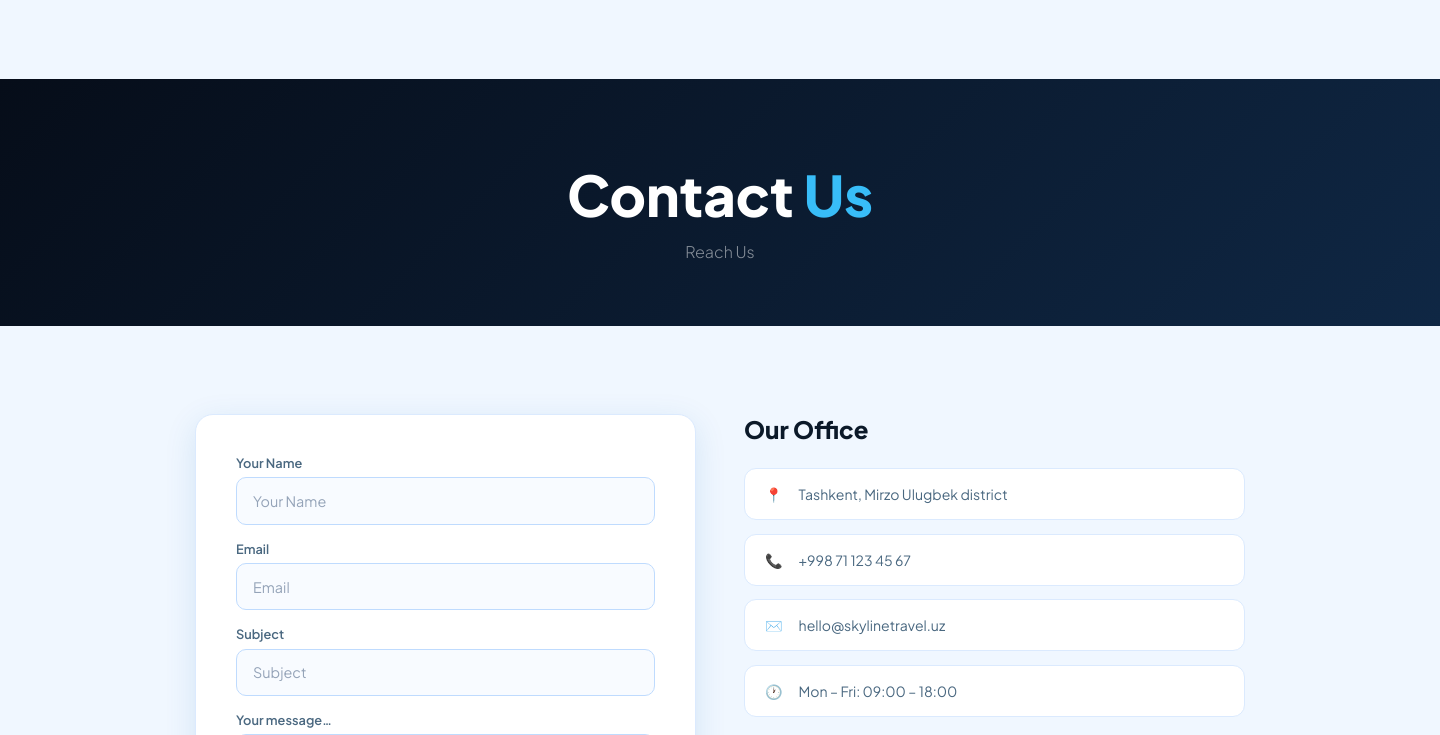
Test case: Contact form validation › rejects an invalid email and accepts a valid one
The image size is (1440, 735).
Type "Alice" into the field labelled "Your Name" at x=446, y=501, box [236, 477, 655, 525]
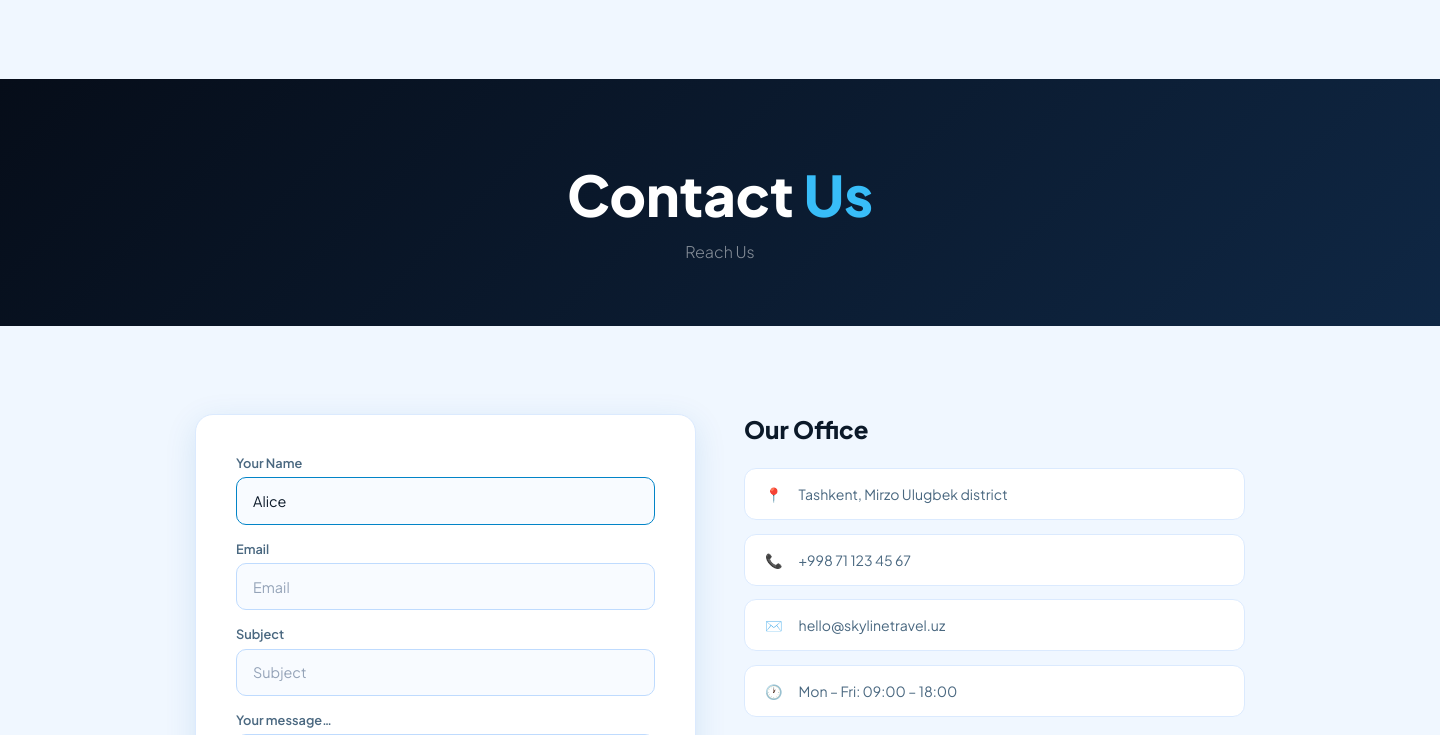
Type "not-an-email" into the field labelled "Email" at x=446, y=587, box [236, 563, 655, 610]
(page scrolled)
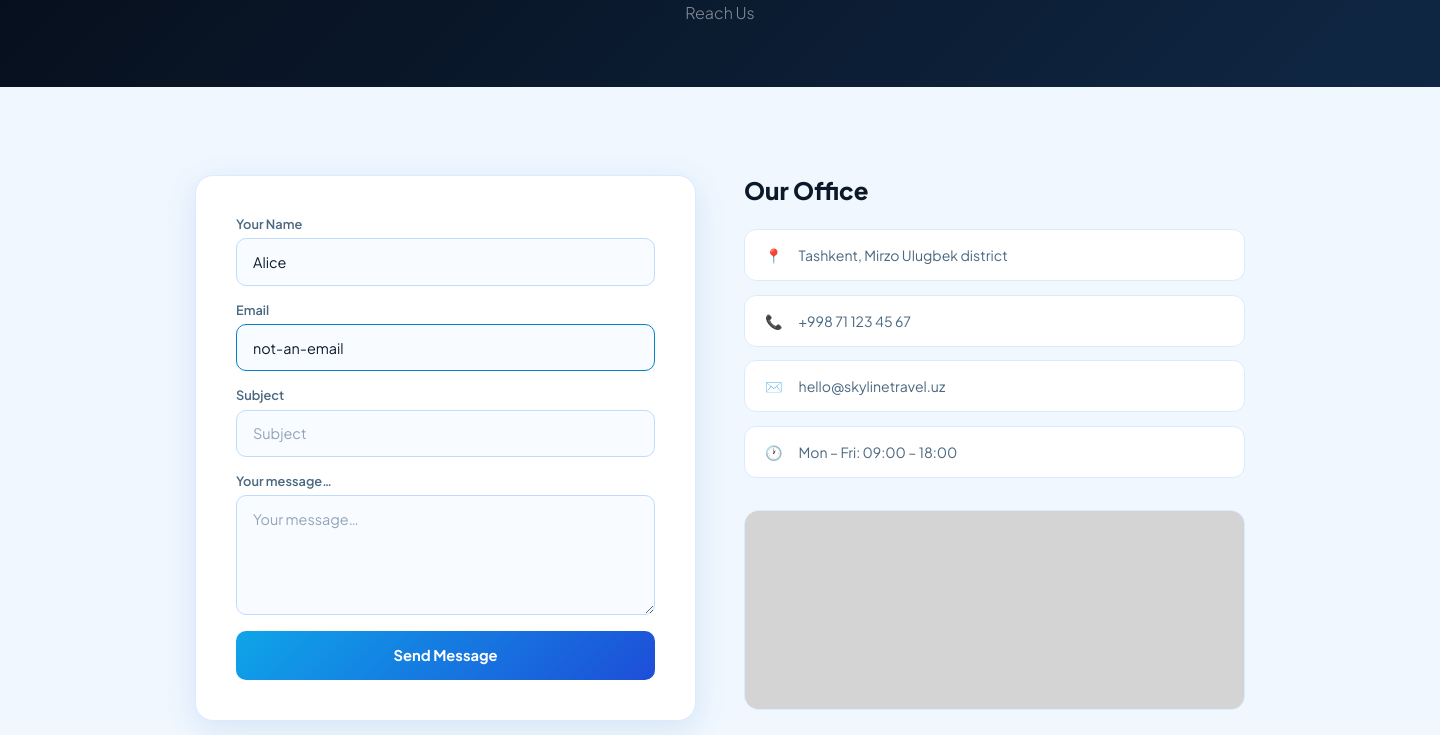
Type "Hello." into the text box labelled "Your message…" at x=446, y=555, box [236, 495, 655, 615]
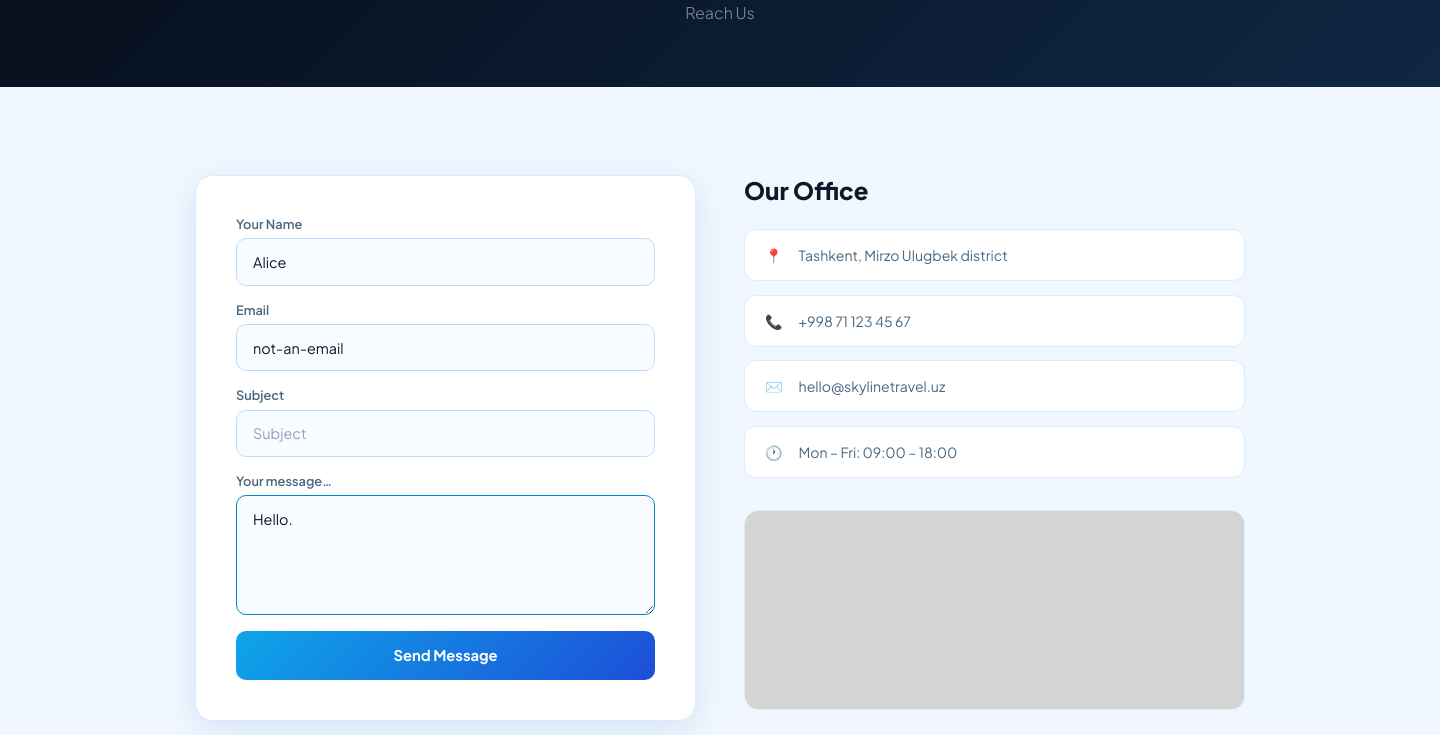
Click the button "Send Message" at x=446, y=655, box [236, 631, 655, 680]
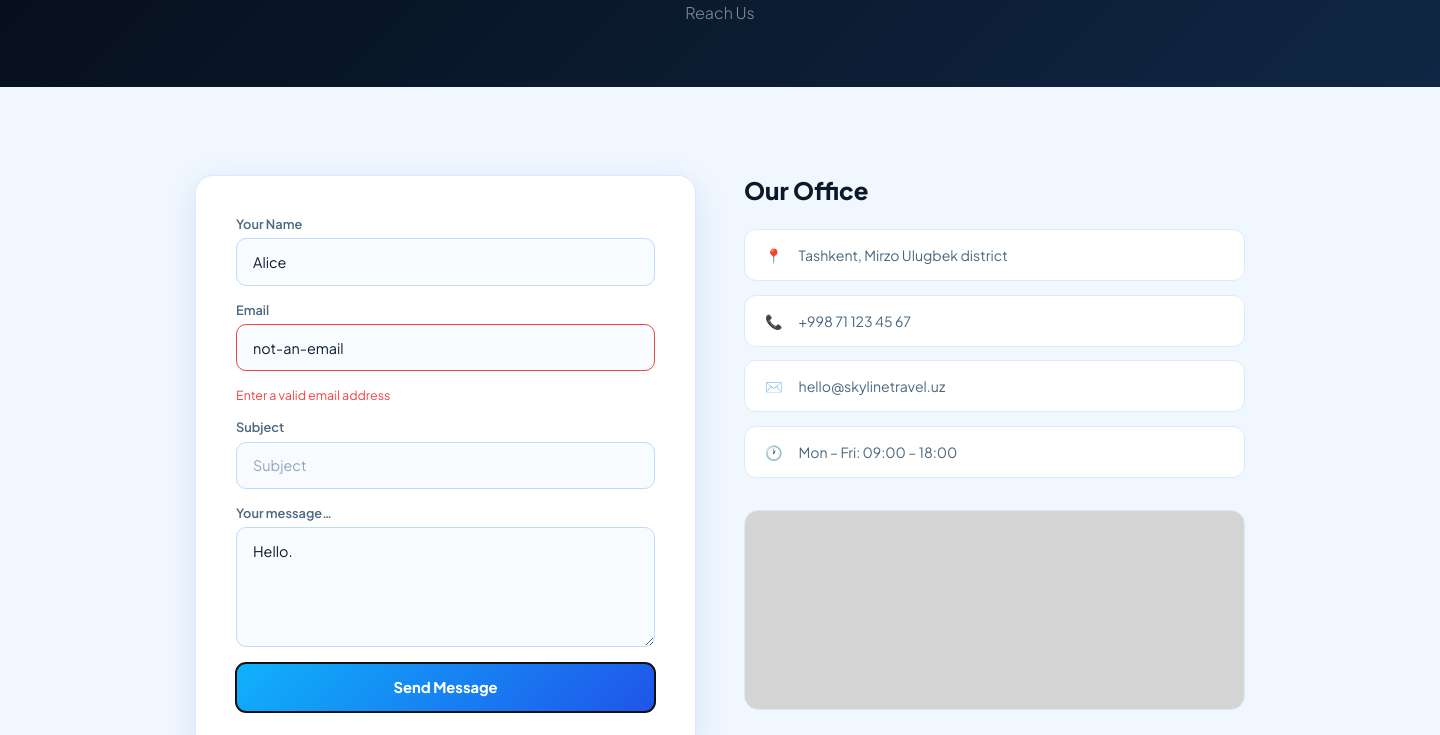
Expected: the text "Enter a valid email address" is shown, [236, 387, 390, 403]
Replace the text in the field labelled "Email" with "alice@example.com" at x=446, y=348, box [236, 324, 655, 371]
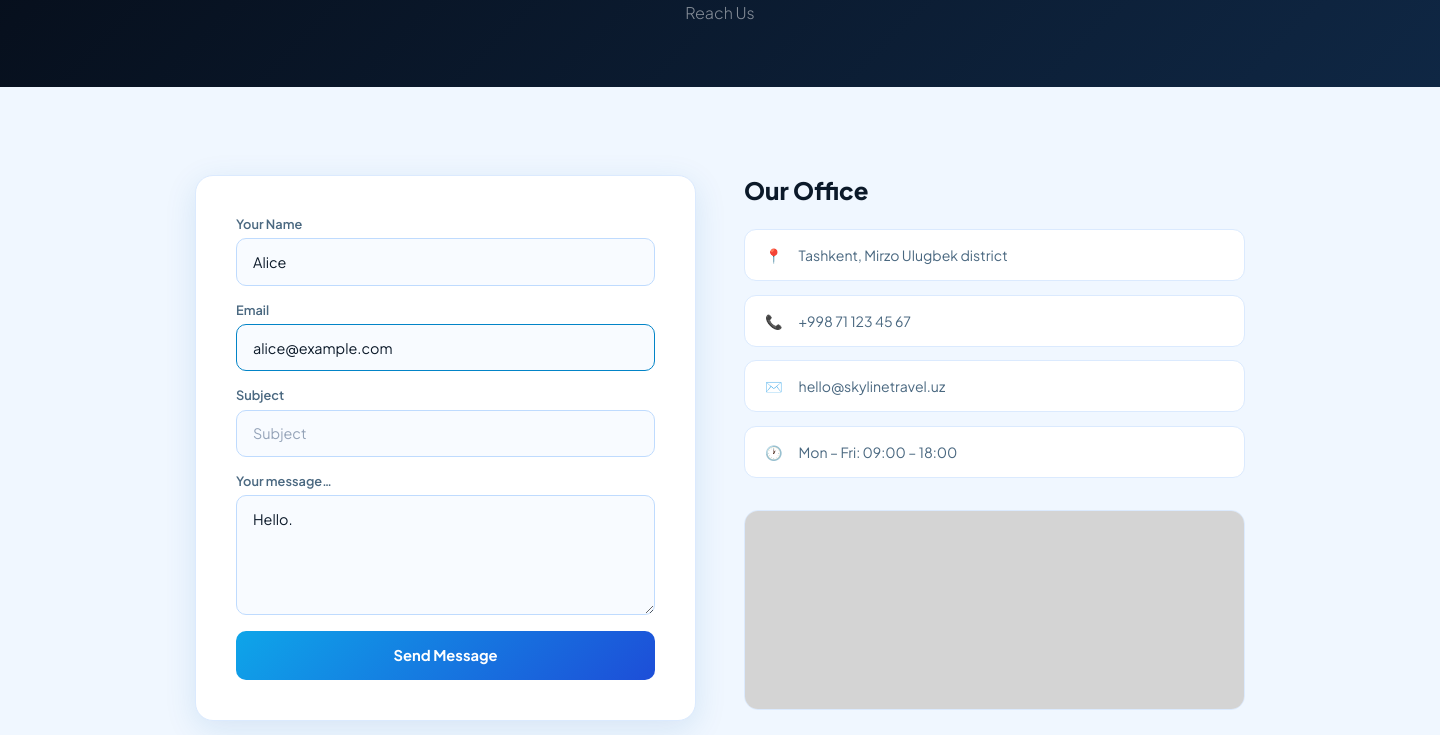
Click the button "Send Message" at x=446, y=655, box [236, 631, 655, 680]
(page scrolled)
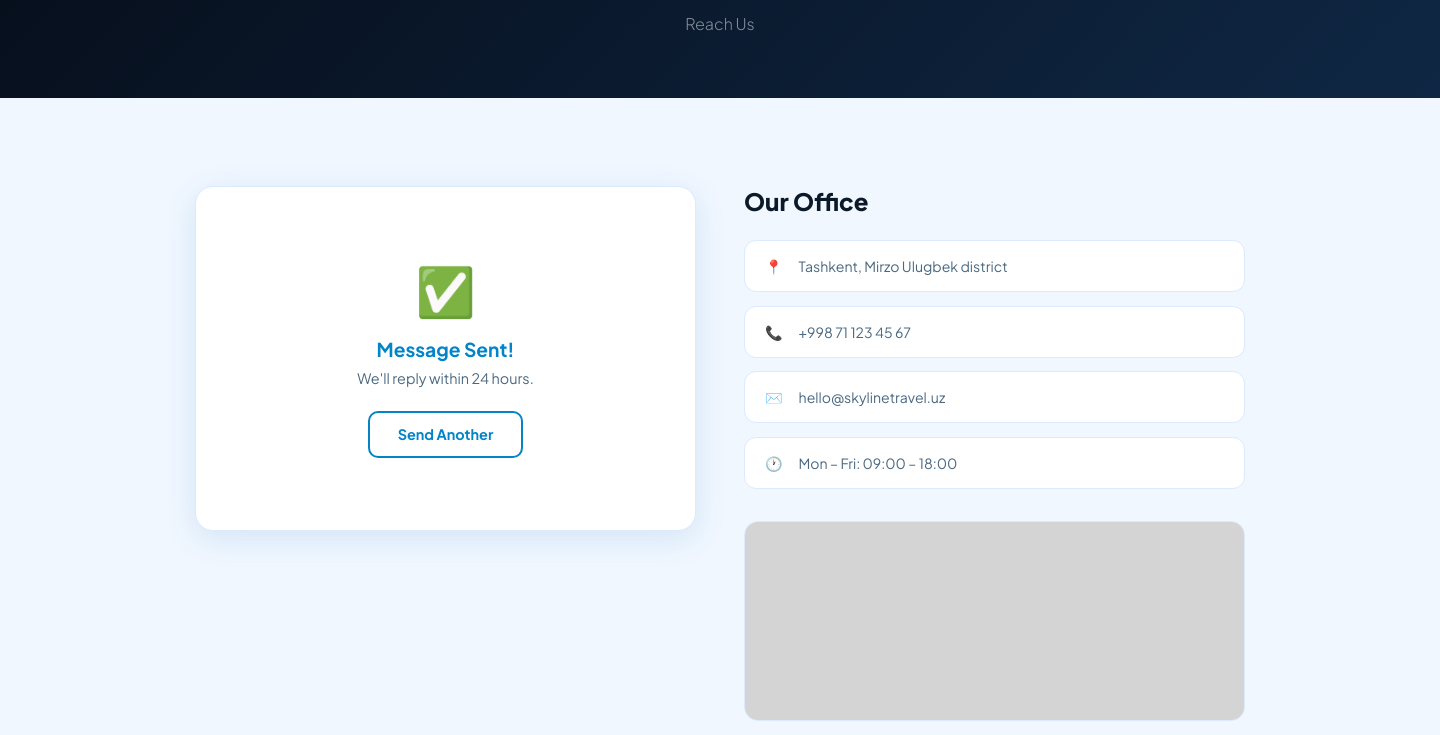
Expected: the text "Message Sent!" is shown, [376, 337, 514, 361]
